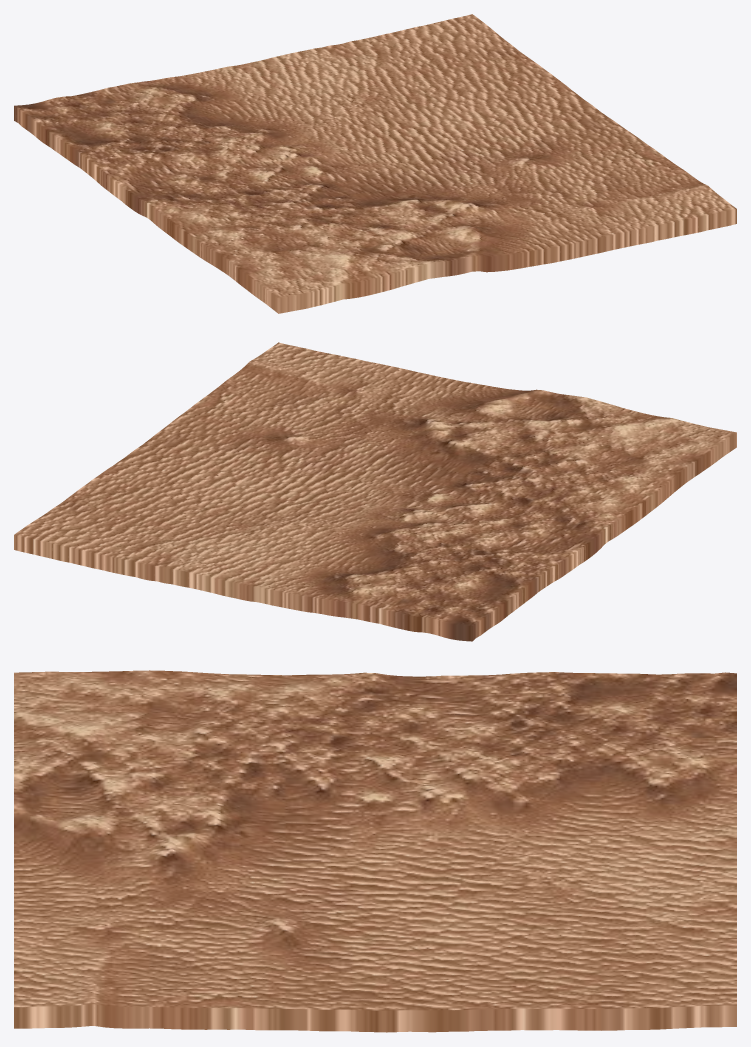
The picture shows the model from 3 angles, top to bottom: view 1: azimuth 30°, elevation 25°; view 2: azimuth 150°, elevation 25°; view 3: azimuth 270°, elevation 25°; orthographic projection. The views are drawn at different scales.
Visible parts, largest first — view 1: L4_7_13; view 2: L4_7_13; view 3: L4_7_13.
Part boxes in pixels (box(x1,y1,x2,y2)): L4_7_13: box(14, 14, 736, 313); L4_7_13: box(14, 342, 736, 641); L4_7_13: box(14, 670, 736, 1032).
Bounding box in the file's own units: 901 × 77.41 × 900.
Materials: 1 (1 with a texture image).
